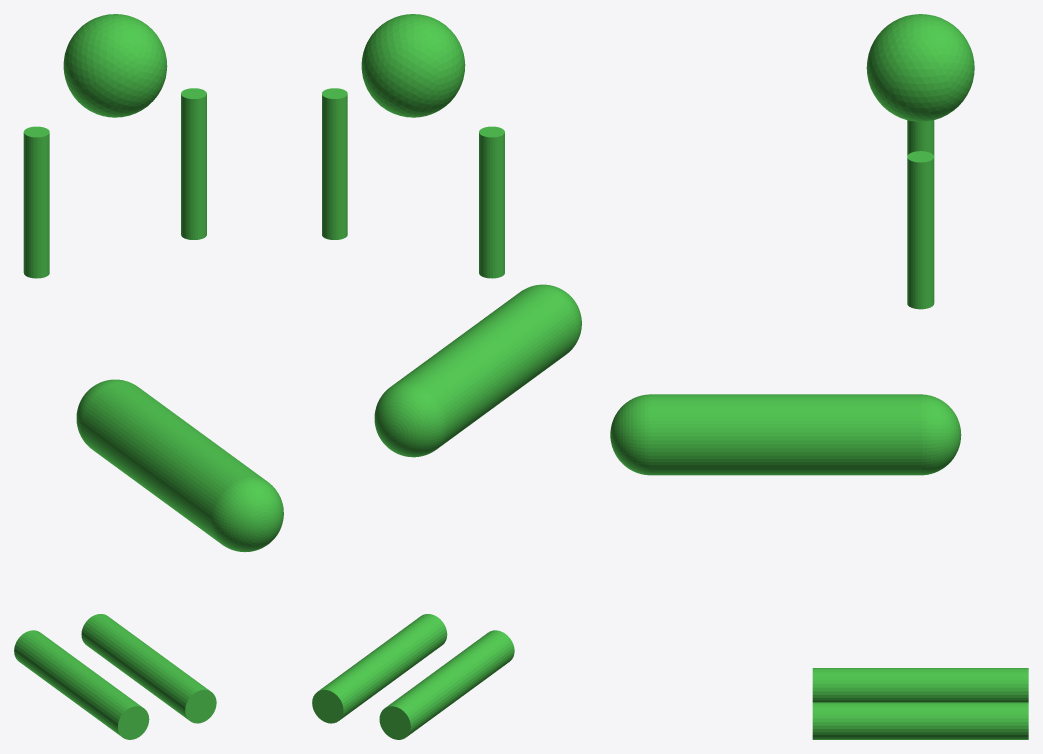
Rendered from CuteGreenCharacter.glb.
3 views of the same model, side by side, from view 1: azimuth 30°, elevation 25°; view 2: azimuth 150°, elevation 25°; view 3: azimuth 270°, elevation 25° (orthographic). The views are drawn at different scales.
Visible parts, largest first — view 1: world; view 2: world; view 3: world.
Part boxes in pixels (bbox=[...]): world: bbox=[14, 14, 283, 739]; world: bbox=[312, 14, 581, 739]; world: bbox=[610, 14, 1028, 739].
Size of the model in its own units: 0.8 by 2.87 by 1.55.
